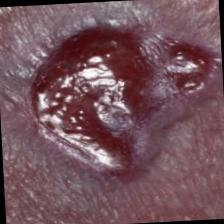pressure-wound: (0, 5, 224, 197)
